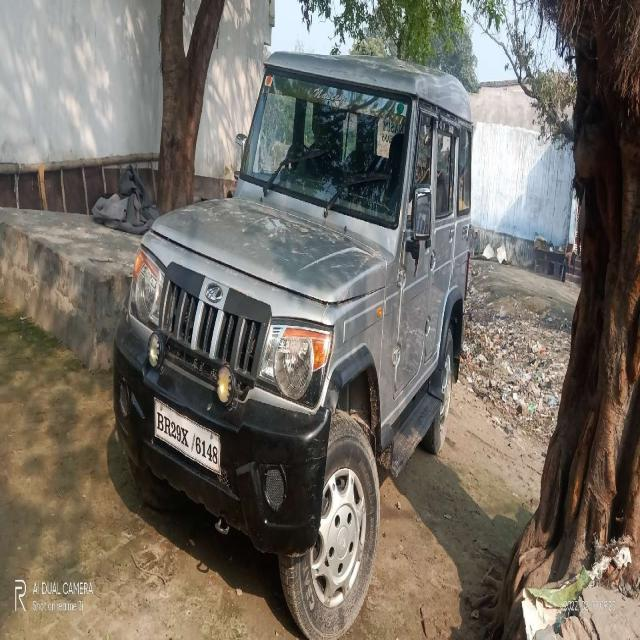light_vehicle: (110, 63, 469, 522)
